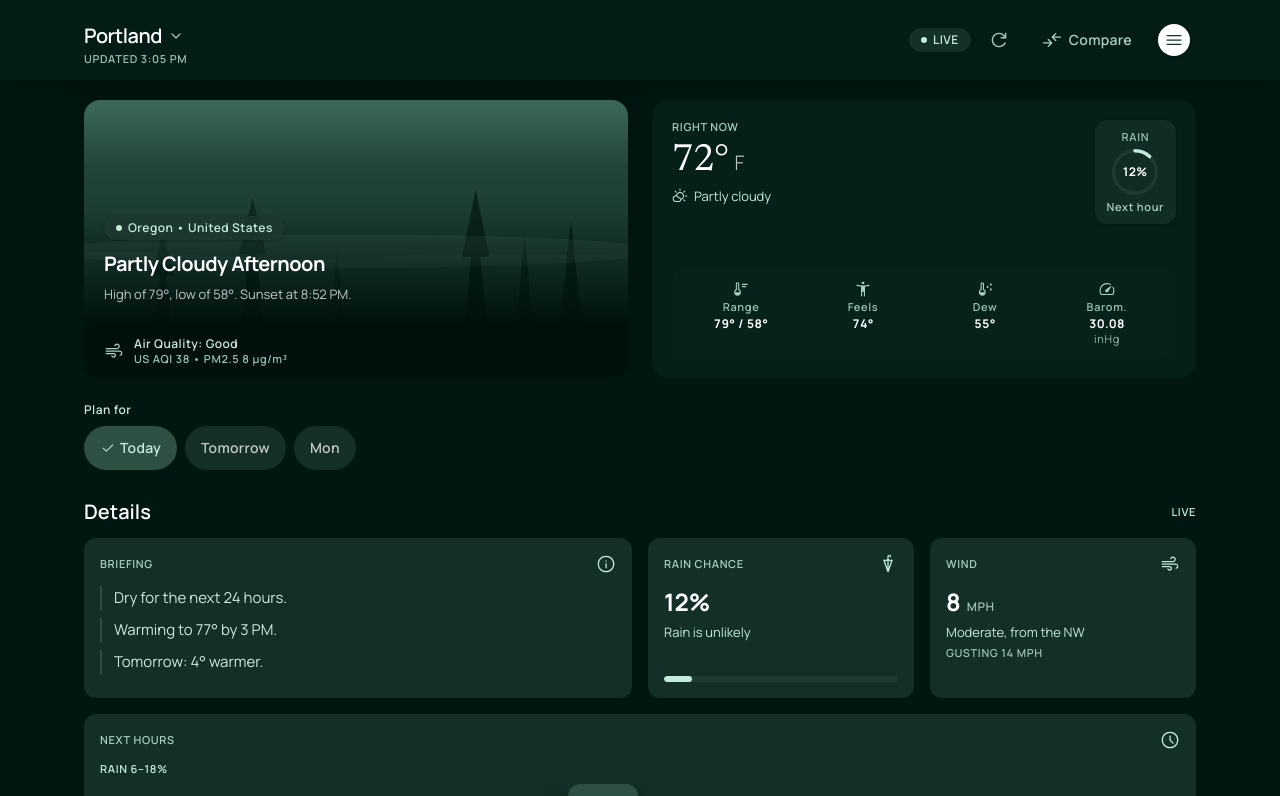
Test case: the day picker on the dashboard › is offered on the default layout, which the briefing makes day-following
Expected: the element "Plan for" is shown, x1=84 y1=401 x2=356 y2=470
What coordinates should you click on to do the following:
click the radio button named "Monday"
I would click on:
 (325, 448)
Its box is x1=294 y1=426 x2=356 y2=470.
(page scrolled)
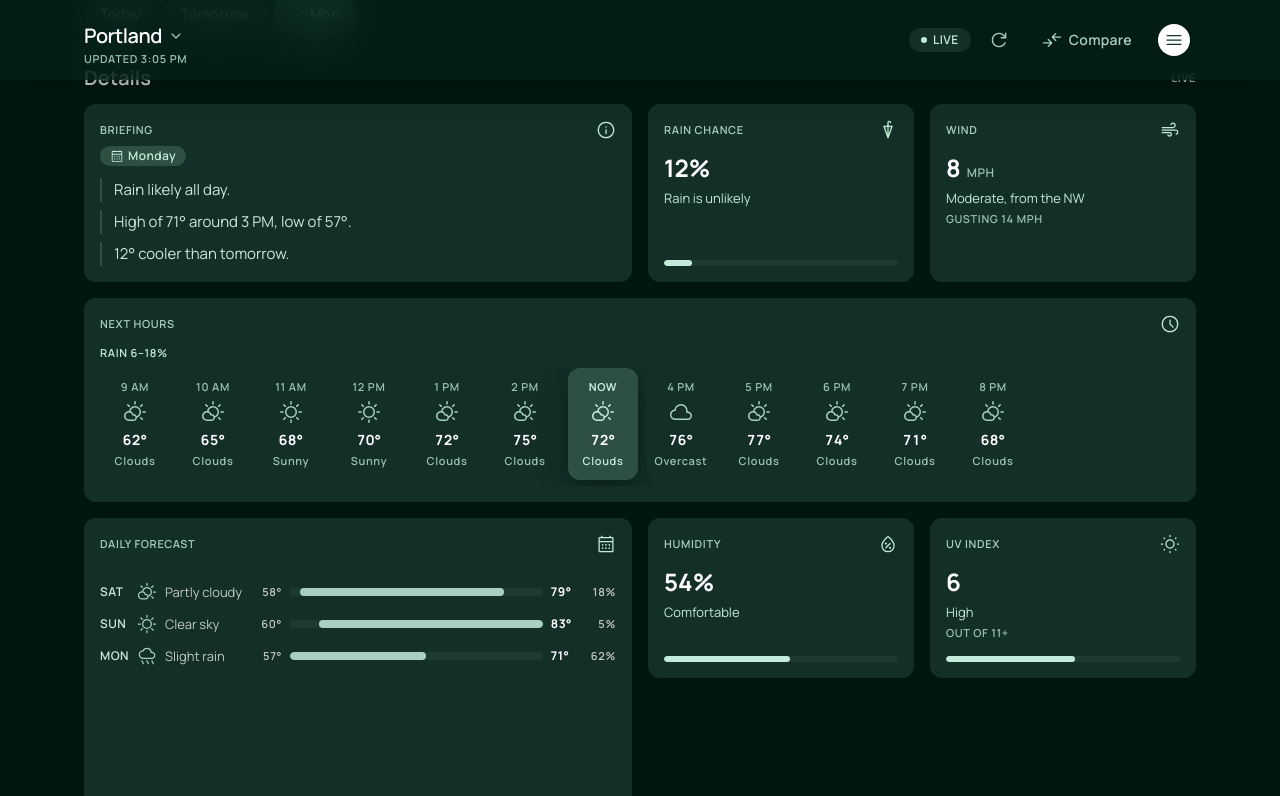
Expected: the element "Next Hours" is shown, x1=84 y1=298 x2=1196 y2=502
Now the element "Briefing Monday" shows "Rain likely all day.", box x1=114 y1=179 x2=230 y2=200
